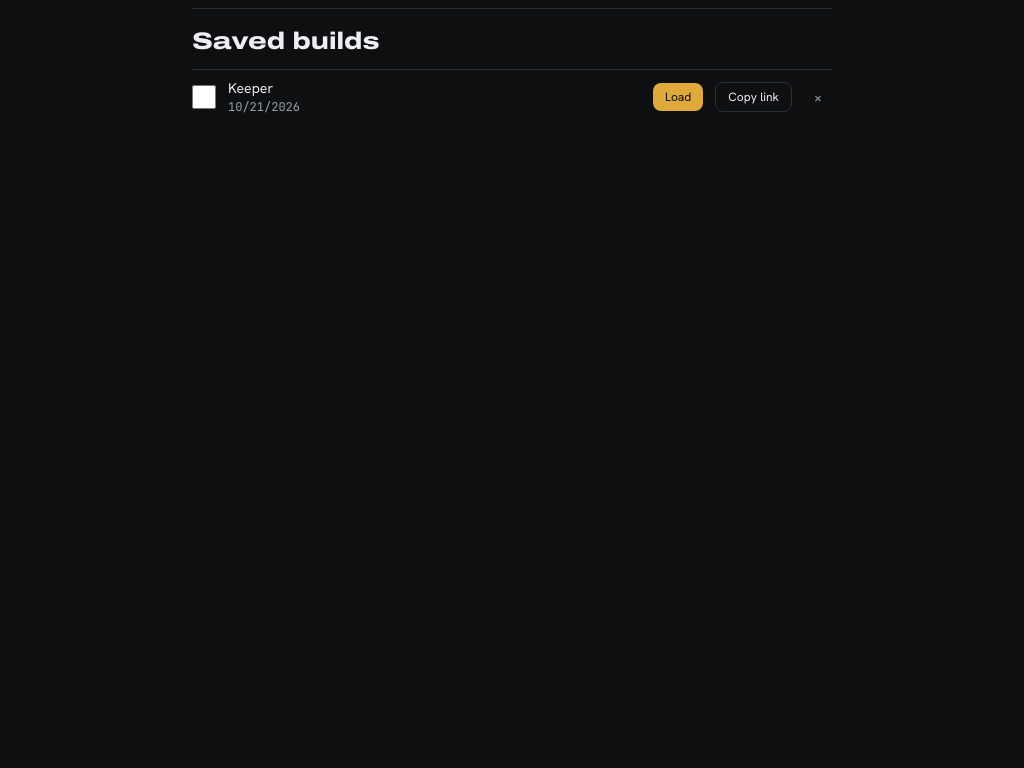
it: SavedBuilds › keeps the build when deletion is cancelled
The width and height of the screenshot is (1024, 768).
Click the button named "delete keeper" at (818, 97), box [804,83,832,111]
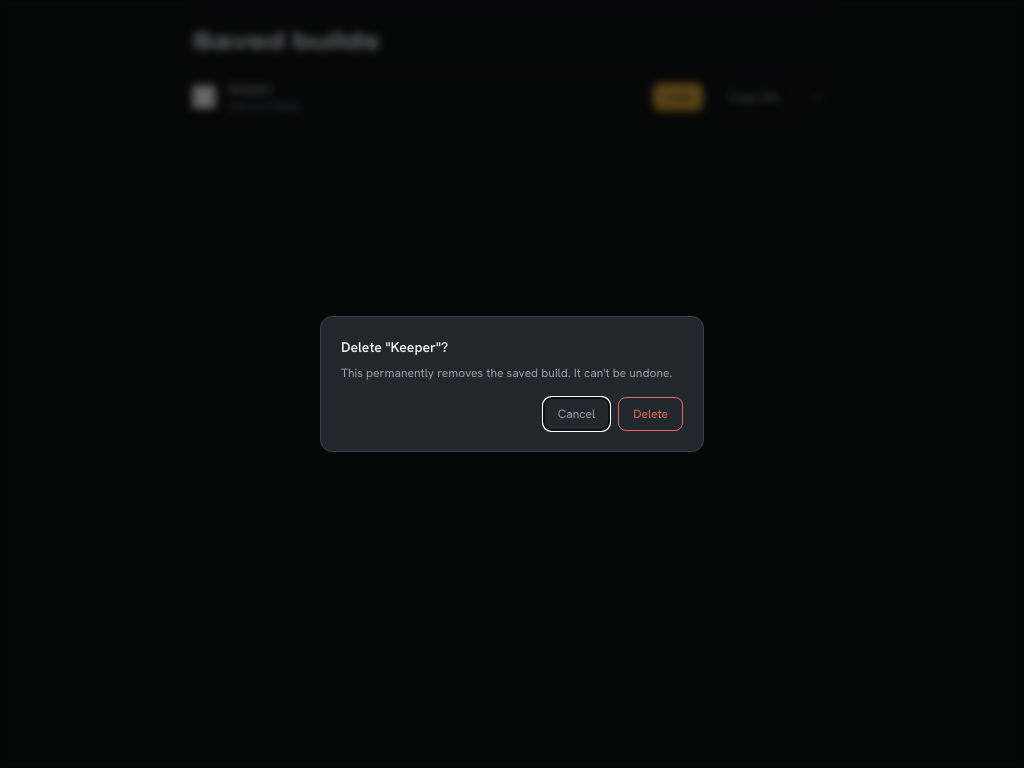
Click the button "Cancel" at (576, 414), box [543,397,610,431]
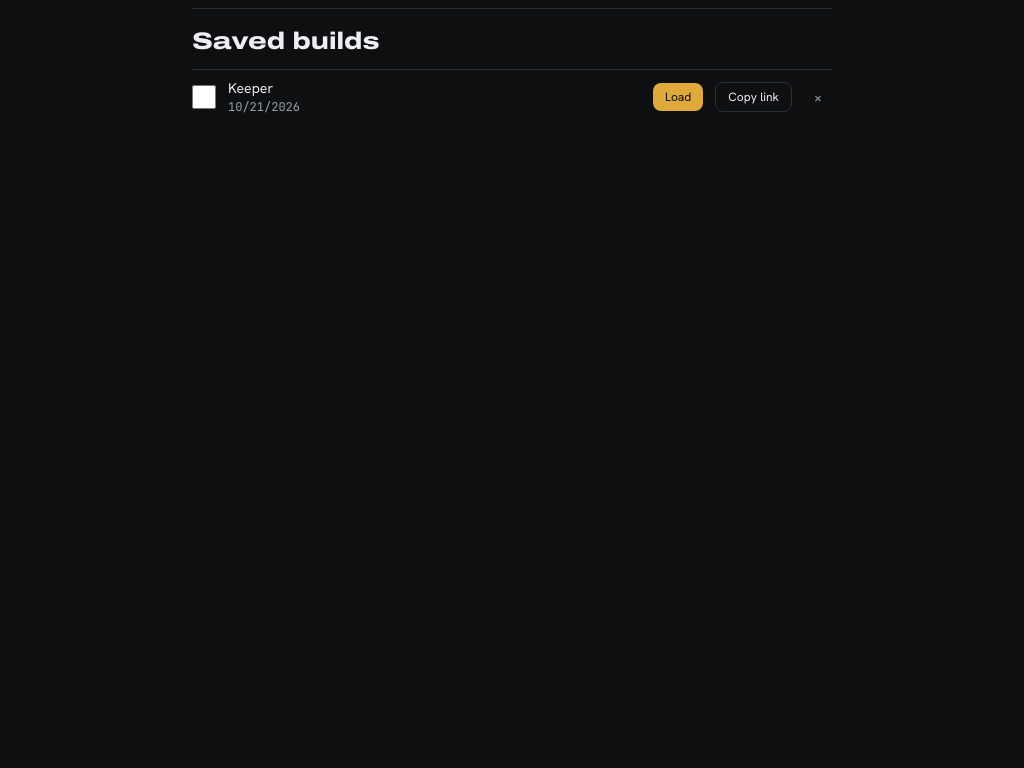
Check: the dialog is gone
